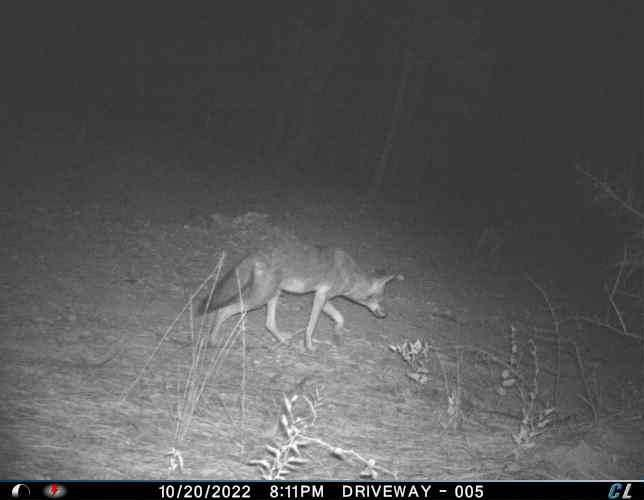Coyote: (201, 207, 392, 355)
